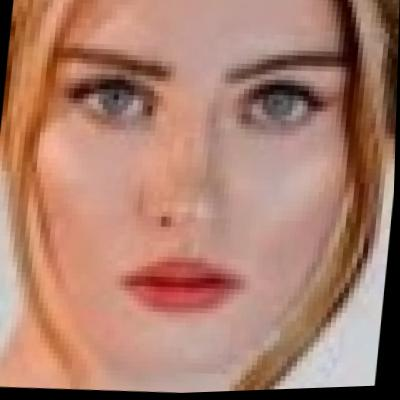netural: (16, 0, 368, 371)
